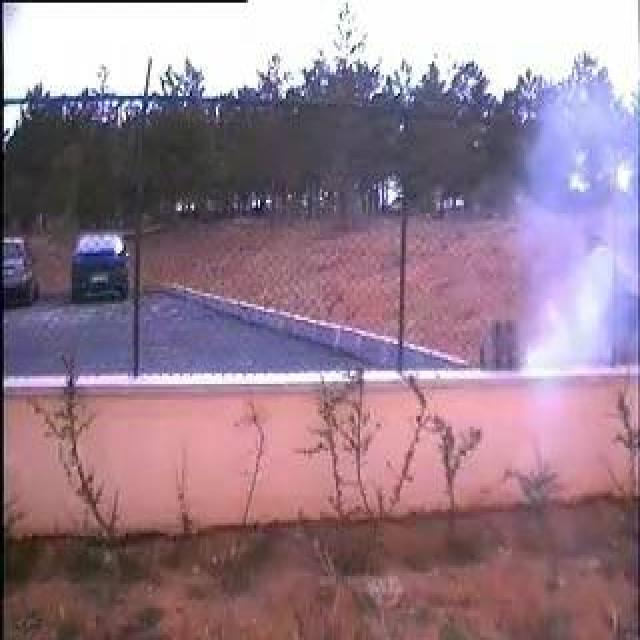Smoke: (515, 100, 615, 369)
